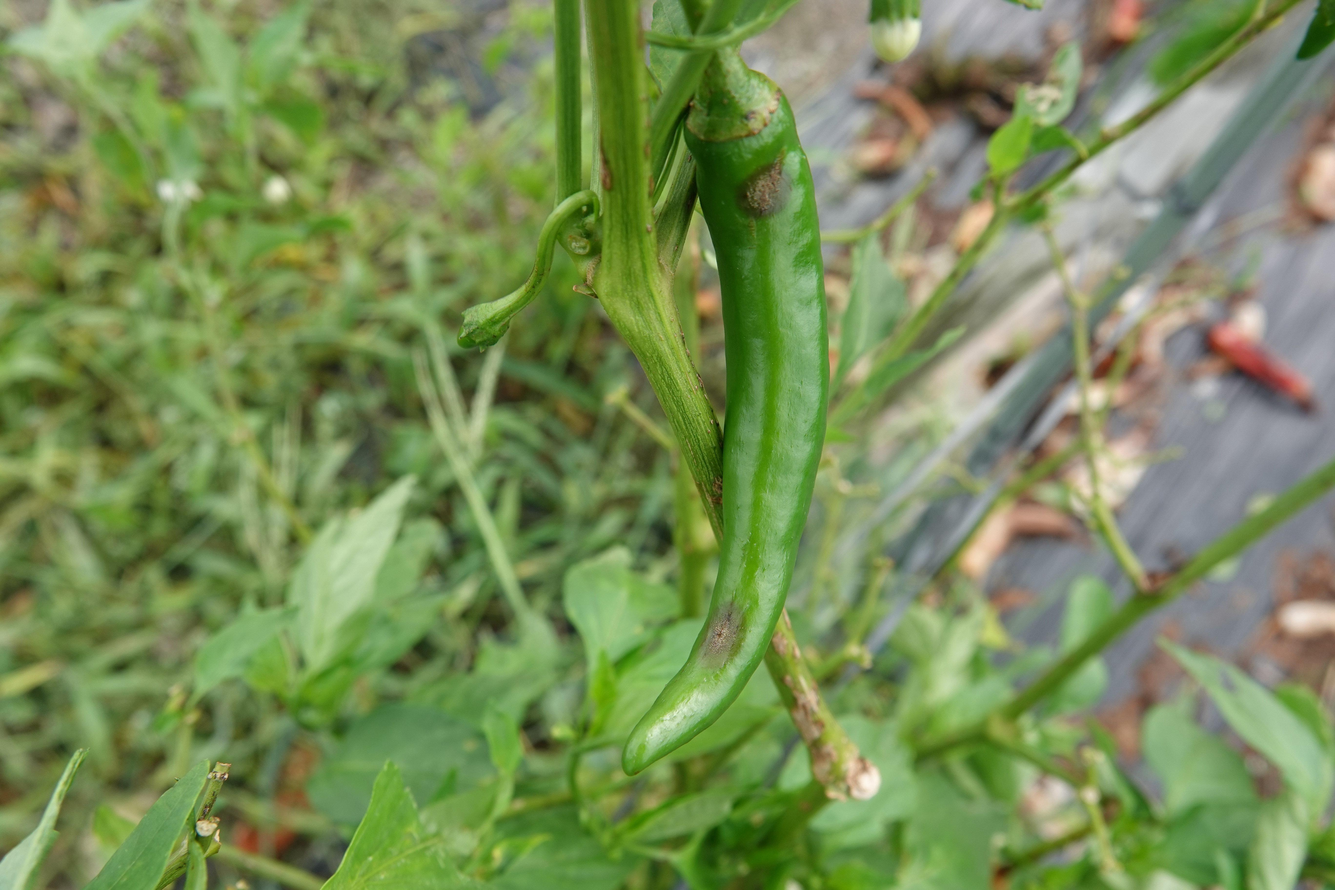Busuk Buah Antraknosa: (618, 45, 832, 777)
